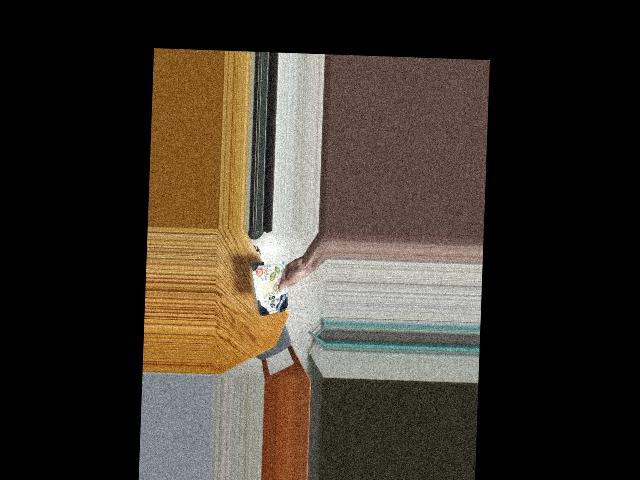cheese: (249, 269, 294, 310)
